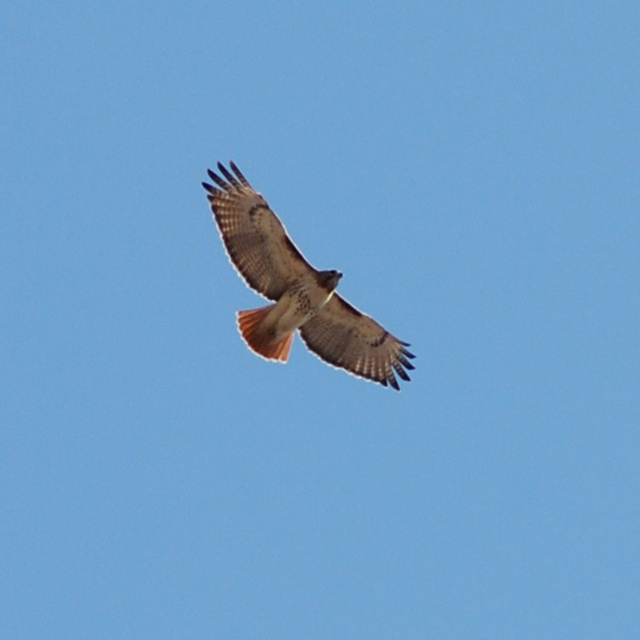Eagle: (195, 153, 421, 396)
